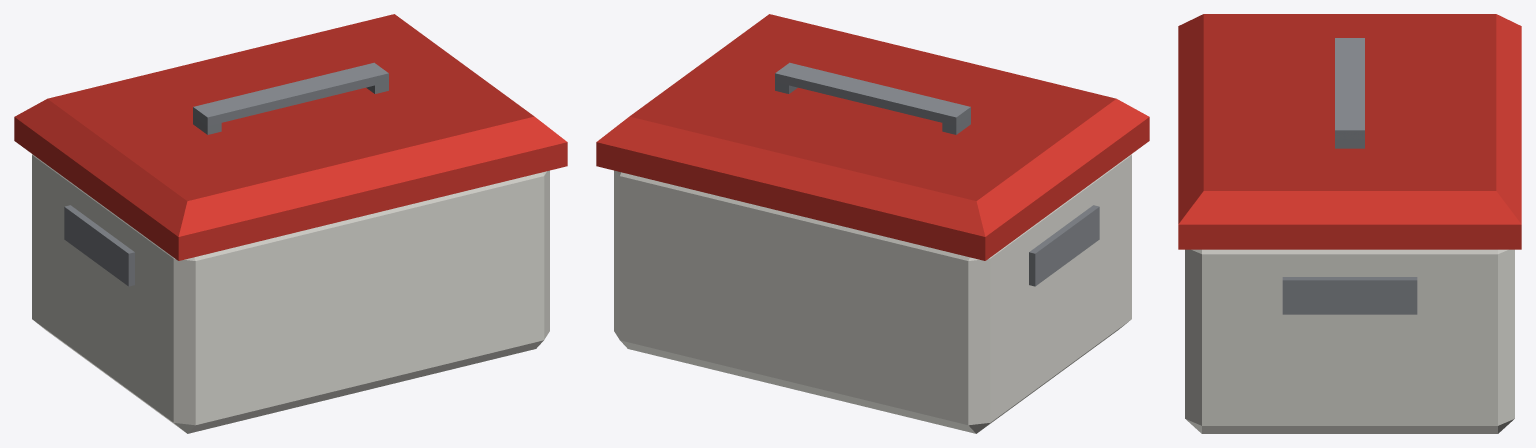
The model's file is gear-esky.glb.
3 renders of one model, left to right at view 1: azimuth 30°, elevation 25°; view 2: azimuth 150°, elevation 25°; view 3: azimuth 270°, elevation 25°, orthographic. The views are drawn at different scales.
Parts seen in each view (by area): view 1: Esky; view 2: Esky; view 3: Esky.
Boxes of the visible parts, x1=… form: Esky: x1=14, y1=14, x2=567, y2=433; Esky: x1=596, y1=14, x2=1149, y2=433; Esky: x1=1178, y1=14, x2=1521, y2=433.
Size of the model in its own units: 0.558 by 0.342 by 0.408.
